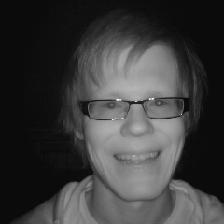happy: (53, 17, 216, 202)
